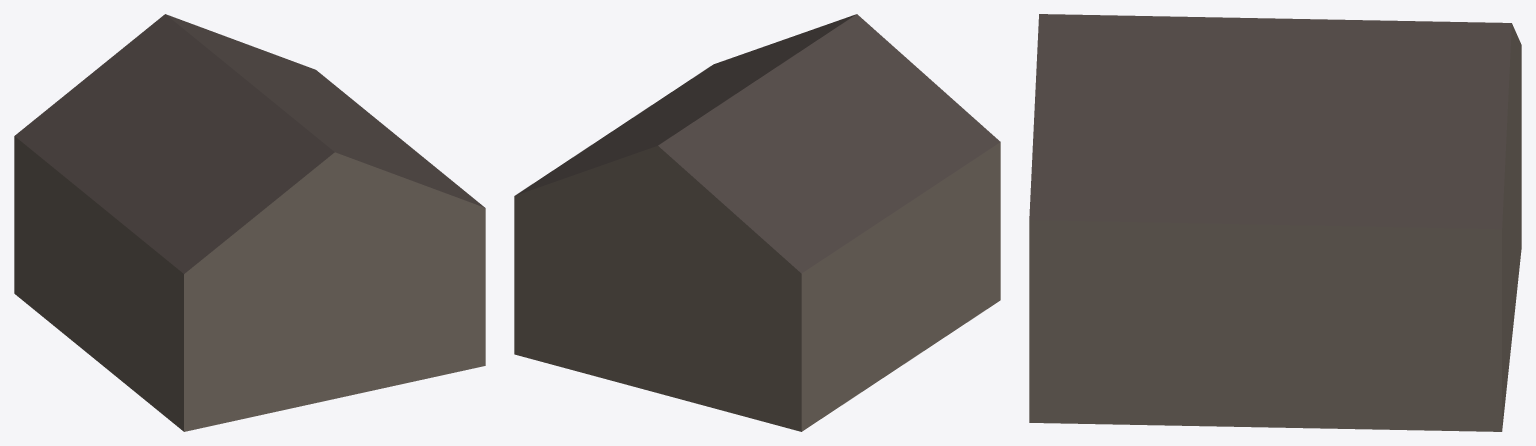
The picture shows the model from 3 angles, left to right: view 1: azimuth 30°, elevation 25°; view 2: azimuth 150°, elevation 25°; view 3: azimuth 270°, elevation 25°; orthographic projection. The views are drawn at different scales.
Parts seen in each view (by area): view 1: HP-w1287260539; view 2: HP-w1287260539; view 3: HP-w1287260539.
Boxes of the visible parts, <box> form: HP-w1287260539: <box>14,14,485,431</box>; HP-w1287260539: <box>514,14,1000,431</box>; HP-w1287260539: <box>1029,14,1521,431</box>.
Size of the model in its own units: 18.4 by 14.07 by 19.81.
